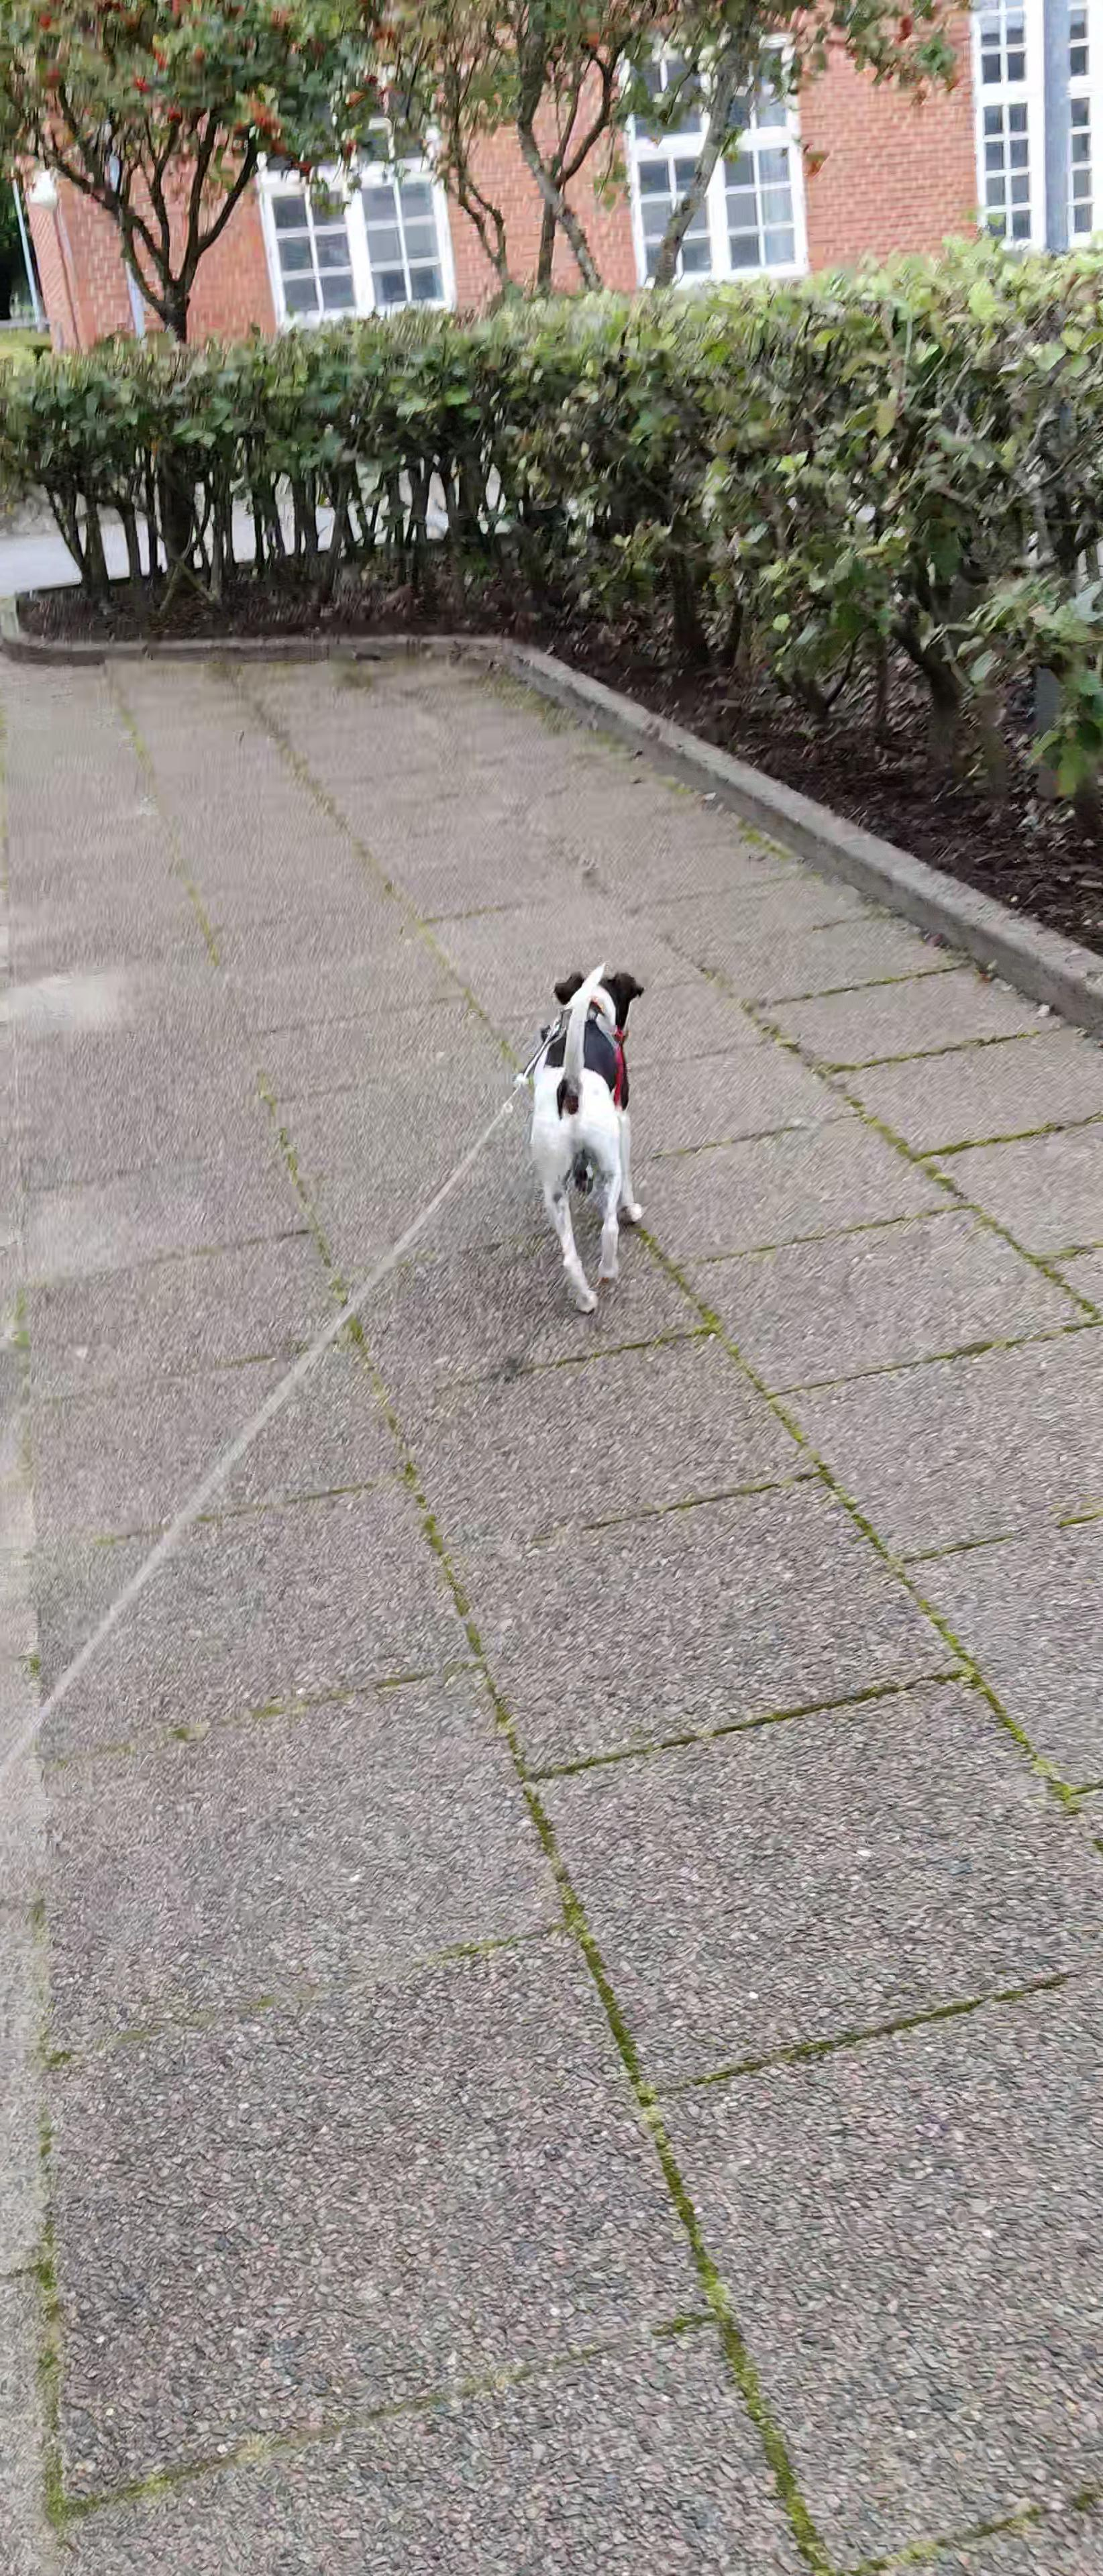Dog: (501, 938, 682, 1324)
